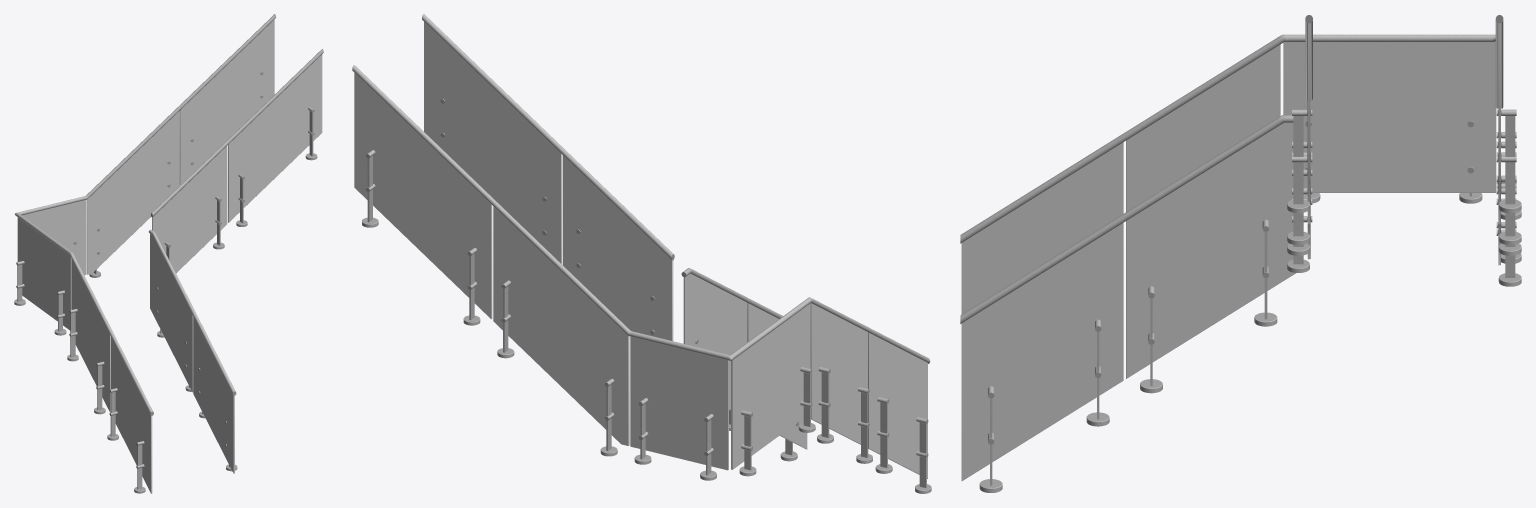
Rendered from L-Shaped_Railing_Lo-Post_Flatbar.gltf.
3 views of the same model, side by side, from view 1: azimuth 30°, elevation 25°; view 2: azimuth 150°, elevation 25°; view 3: azimuth 270°, elevation 25° (orthographic). The views are drawn at different scales.
Parts seen in each view (by area): view 1: Casework 1 Casework 1 [8738332], Infill_Glass_Raked & Horizontal Generic [8200579], Infill_Glass_Raked & Horizontal Generic [8736296], Infill_Glass_Raked & Horizontal Generic [8199751], Infill_Glass_Raked & Horizontal Generic [8738822], Infill_Glass_Transition Generic [8202170], Infill_Glass_Raked & Horizontal Generic [8202939], Infill_Glass_Raked & Horizontal Generic [8735940], Infill_Glass_Raked & Horizontal Generic [8739593], Infill_Glass_Raked & Horizontal Generic [8737682], Object, Generic Models 11 Generic Models 11 [8762451]005 (+2 smaller); view 2: Infill_Glass_Raked & Horizontal Generic [8736296], Casework 1 Casework 1 [8738332], Infill_Glass_Raked & Horizontal Generic [8200579], Infill_Glass_Raked & Horizontal Generic [8199751], Infill_Glass_Raked & Horizontal Generic [8737682], Infill_Glass_Raked & Horizontal Generic [8738822], Infill_Glass_Raked & Horizontal Generic [8735940], Infill_Glass_Raked & Horizontal Generic [8739593], Infill_Glass_Transition Generic [8202170], Object, Generic Models 11 Generic Models 11 [8762451]005, Infill_Glass_Raked & Horizontal Generic [8202939] (+1 smaller); view 3: Infill_Glass_Raked & Horizontal Generic [8738822], Infill_Glass_Transition Generic [8202170], Infill_Glass_Raked & Horizontal Generic [8202939], Infill_Glass_Raked & Horizontal Generic [8735940], Infill_Glass_Raked & Horizontal Generic [8739593], Generic Models 1 Generic Models 1 [8568048], Generic Models 10 Generic Models 1 [8735975], Object, LS147 & LS148 - Kubit Post Material LS Material [8739192]005, LS147 & LS148 - Kubit Post Material LS Material [8739192]016, Infill_Glass_Raked & Horizontal Generic [8200579].
Boxes of the visible parts, box(x1,y1,x2,y2) form: Casework 1 Casework 1 [8738332]: box(86, 111, 179, 274); Infill_Glass_Raked & Horizontal Generic [8200579]: box(228, 54, 322, 222); Infill_Glass_Raked & Horizontal Generic [8736296]: box(180, 19, 274, 184); Infill_Glass_Raked & Horizontal Generic [8199751]: box(152, 146, 227, 273); Infill_Glass_Raked & Horizontal Generic [8738822]: box(17, 217, 71, 330); Infill_Glass_Transition Generic [8202170]: box(150, 234, 193, 392); Infill_Glass_Raked & Horizontal Generic [8202939]: box(193, 316, 234, 473); Infill_Glass_Raked & Horizontal Generic [8735940]: box(111, 337, 152, 493); Infill_Glass_Raked & Horizontal Generic [8739593]: box(71, 259, 110, 412); Infill_Glass_Raked & Horizontal Generic [8737682]: box(22, 200, 85, 275); Object: box(14, 14, 275, 253); Generic Models 11 Generic Models 11 [8762451]005: box(151, 49, 323, 217); Infill_Glass_Raked & Horizontal Generic [8736296]: box(354, 73, 492, 319); Casework 1 Casework 1 [8738332]: box(493, 206, 629, 445); Infill_Glass_Raked & Horizontal Generic [8200579]: box(424, 22, 561, 263); Infill_Glass_Raked & Horizontal Generic [8199751]: box(562, 155, 673, 340); Infill_Glass_Raked & Horizontal Generic [8737682]: box(630, 336, 728, 470); Infill_Glass_Raked & Horizontal Generic [8738822]: box(731, 303, 810, 469); Infill_Glass_Raked & Horizontal Generic [8735940]: box(868, 332, 927, 478); Infill_Glass_Raked & Horizontal Generic [8739593]: box(810, 303, 867, 444); Infill_Glass_Transition Generic [8202170]: box(683, 273, 747, 410); Object: box(352, 65, 809, 360); Generic Models 11 Generic Models 11 [8762451]005: box(422, 14, 674, 260); Infill_Glass_Raked & Horizontal Generic [8202939]: box(747, 303, 807, 449); Infill_Glass_Raked & Horizontal Generic [8738822]: box(1283, 42, 1496, 192); Infill_Glass_Transition Generic [8202170]: box(1126, 122, 1295, 378); Infill_Glass_Raked & Horizontal Generic [8202939]: box(961, 223, 1123, 480); Infill_Glass_Raked & Horizontal Generic [8735940]: box(961, 142, 1123, 314); Infill_Glass_Raked & Horizontal Generic [8739593]: box(1126, 44, 1280, 211); Generic Models 1 Generic Models 1 [8568048]: box(960, 115, 1293, 323); Generic Models 10 Generic Models 1 [8735975]: box(960, 34, 1290, 243); Object: box(1290, 15, 1503, 108); LS147 & LS148 - Kubit Post Material LS Material [8739192]005: box(1293, 116, 1303, 204); LS147 & LS148 - Kubit Post Material LS Material [8739192]016: box(1505, 116, 1515, 204); Infill_Glass_Raked & Horizontal Generic [8200579]: box(1307, 23, 1310, 224).
Bounding box in the file's own units: 3.07 × 3.51 × 2.79.
